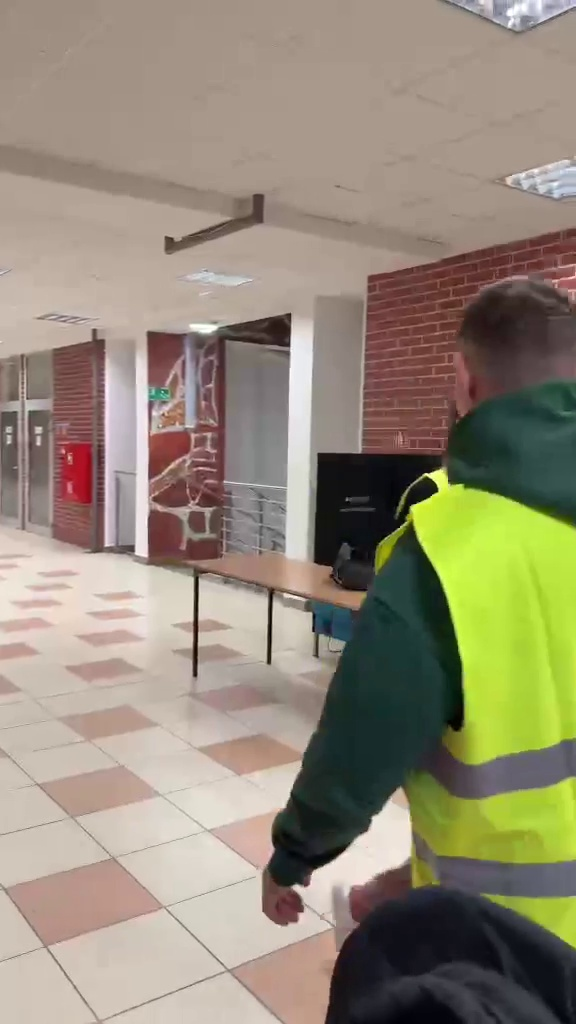vest: (268, 268, 576, 940)
